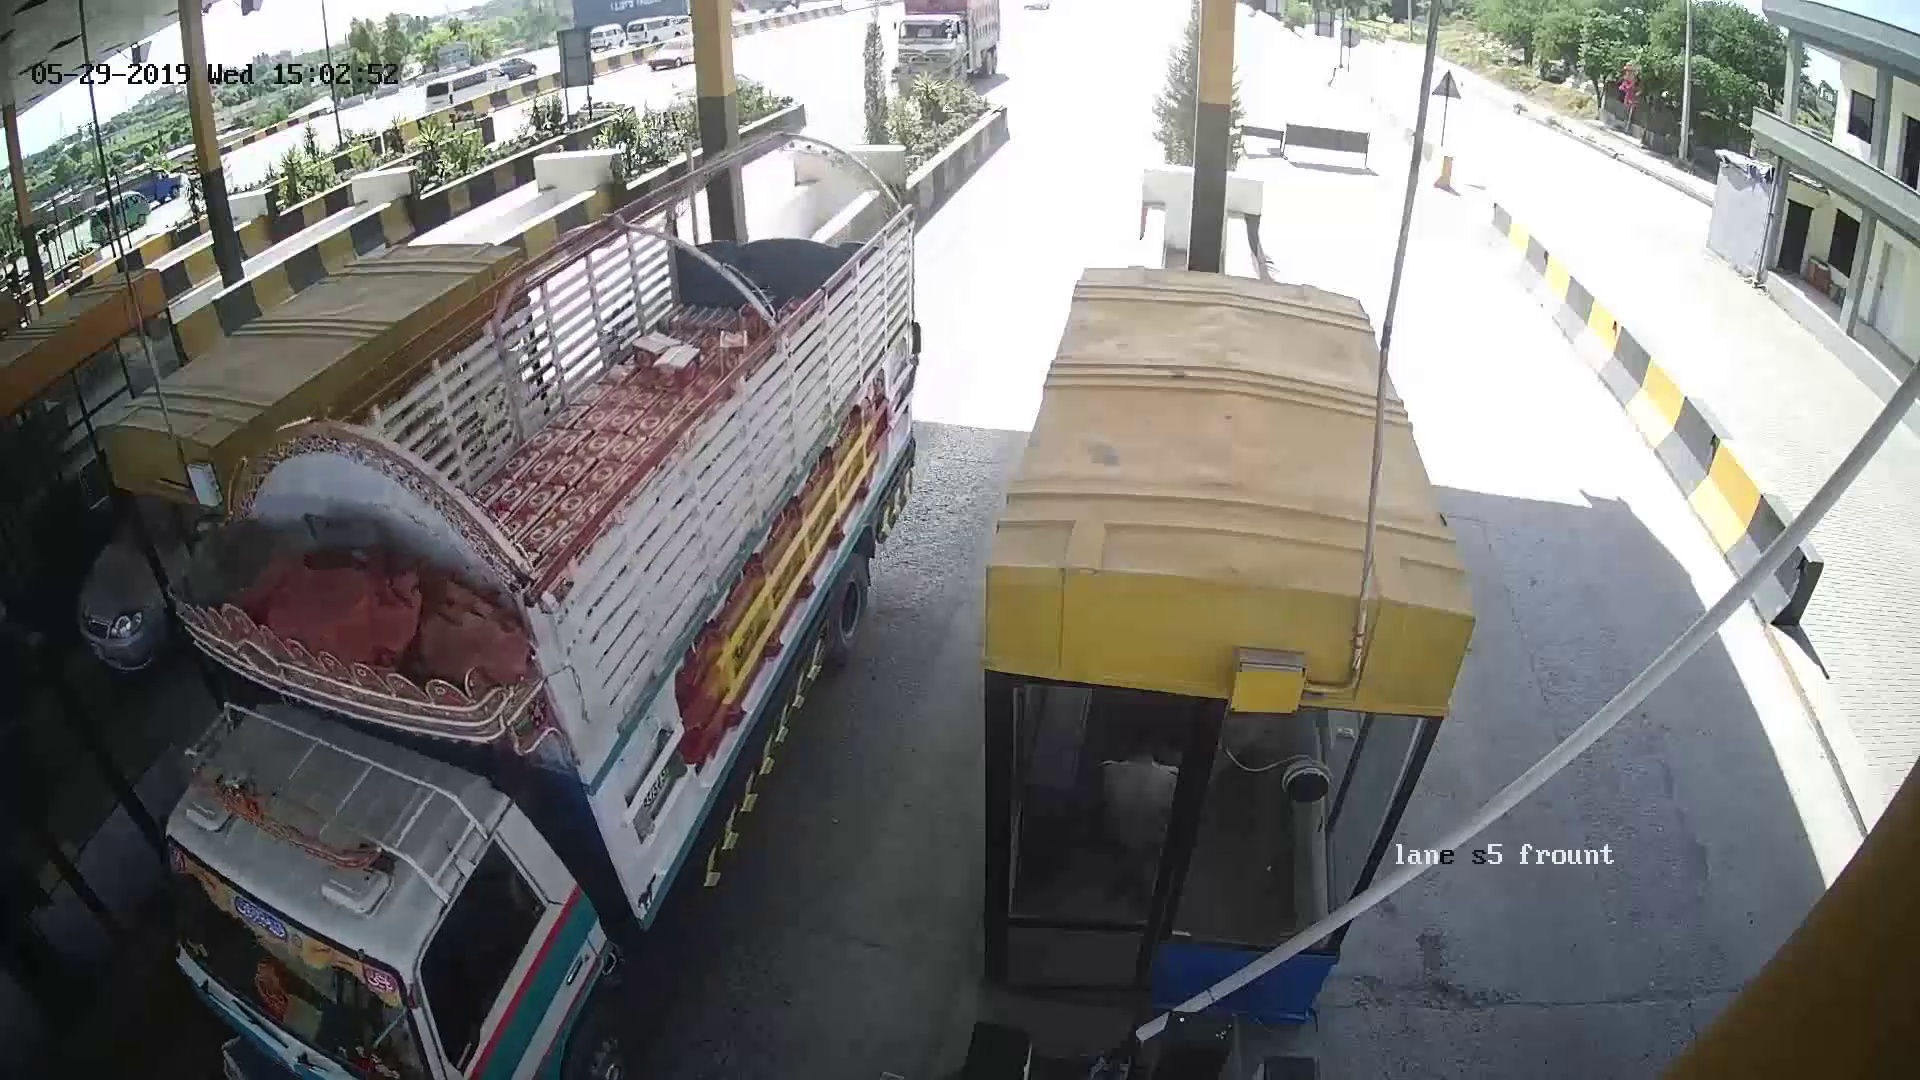truck: (319, 219, 964, 1038)
